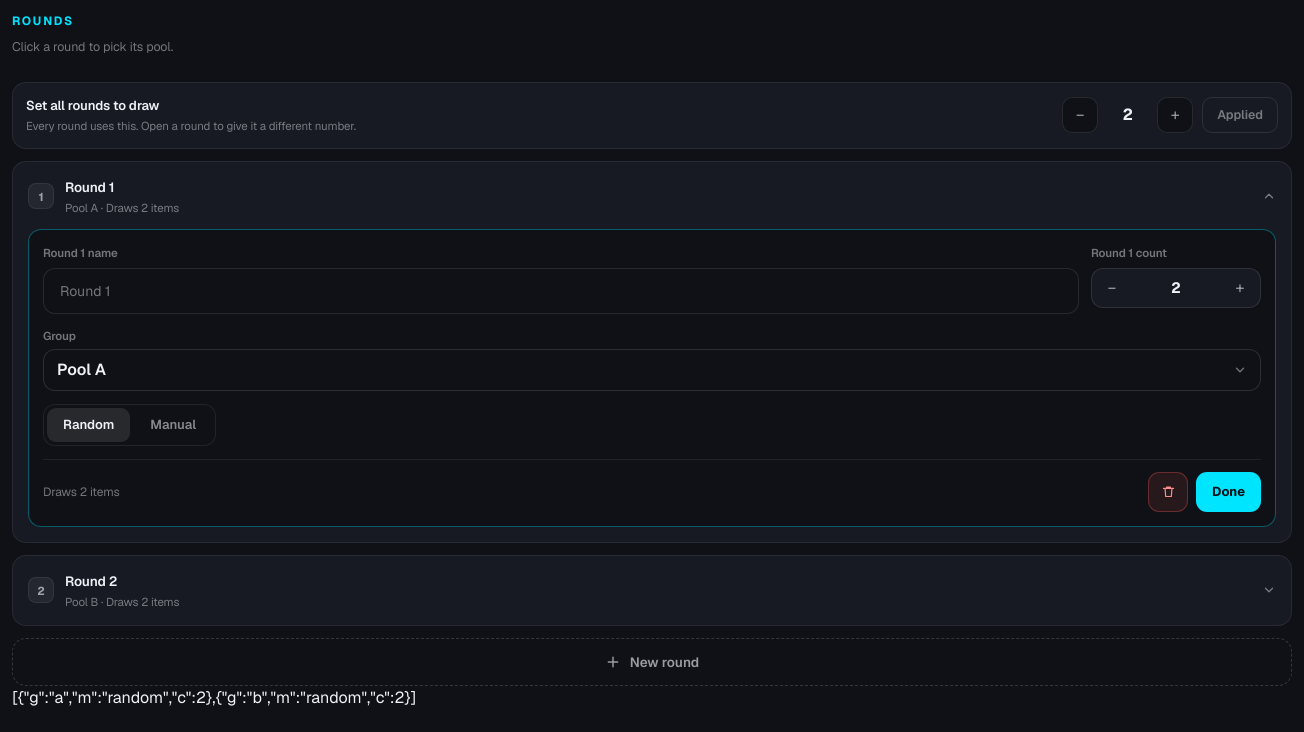
Test: RoundsEditor progressive disclosure (T6) › expands a collapsed round and collapses the previously-open one on click
Click the button "2 Round 2 Pool B · Draws 2 items" at {"x": 91, "y": 580}, box x1=28 y1=570 x2=1276 y2=610
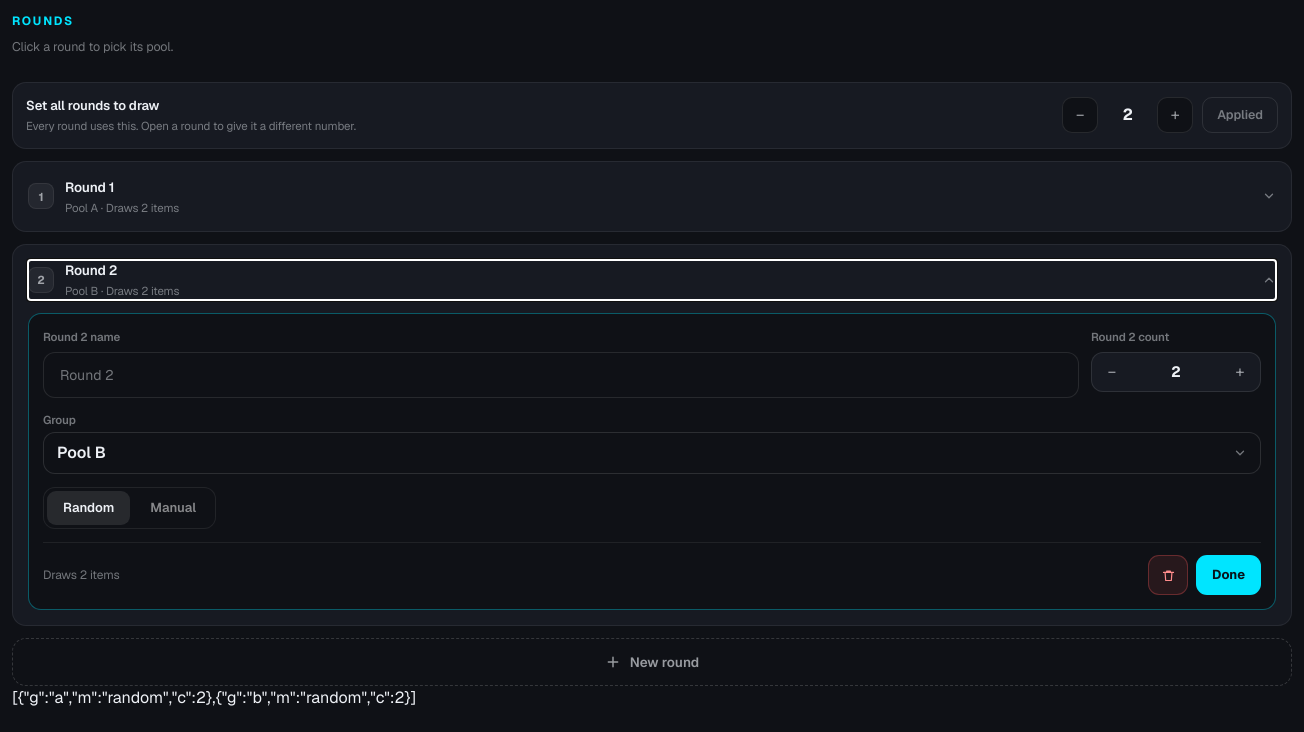
Check: the dropdown named "Round 2 pool" is shown, box x1=43 y1=432 x2=1261 y2=474
